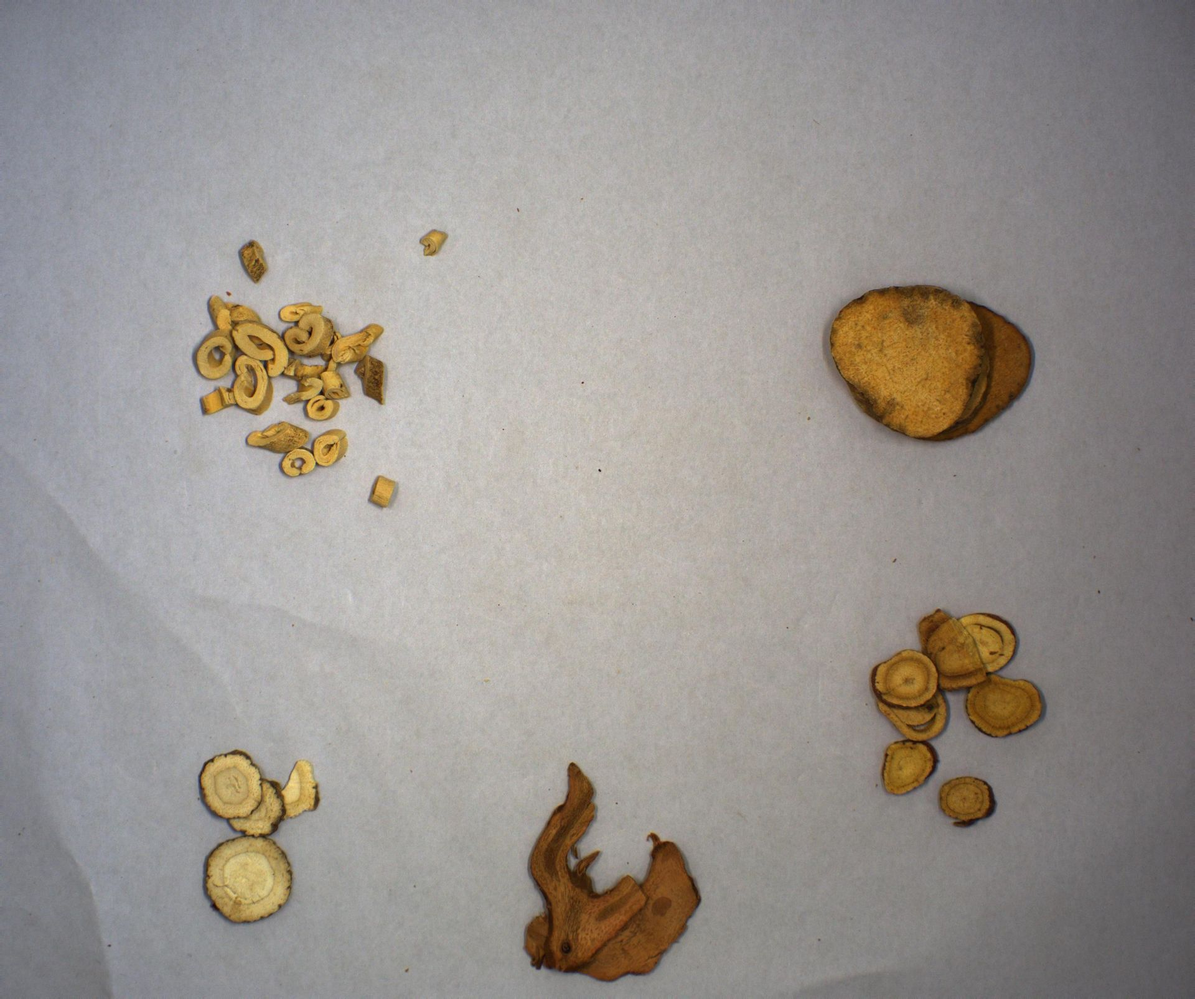baixianpi: (182, 226, 469, 525)
baizhi: (179, 716, 341, 943)
gancao: (860, 595, 1080, 844)
gaoliangjiang: (490, 743, 713, 997)
zexie: (809, 263, 1057, 472)
